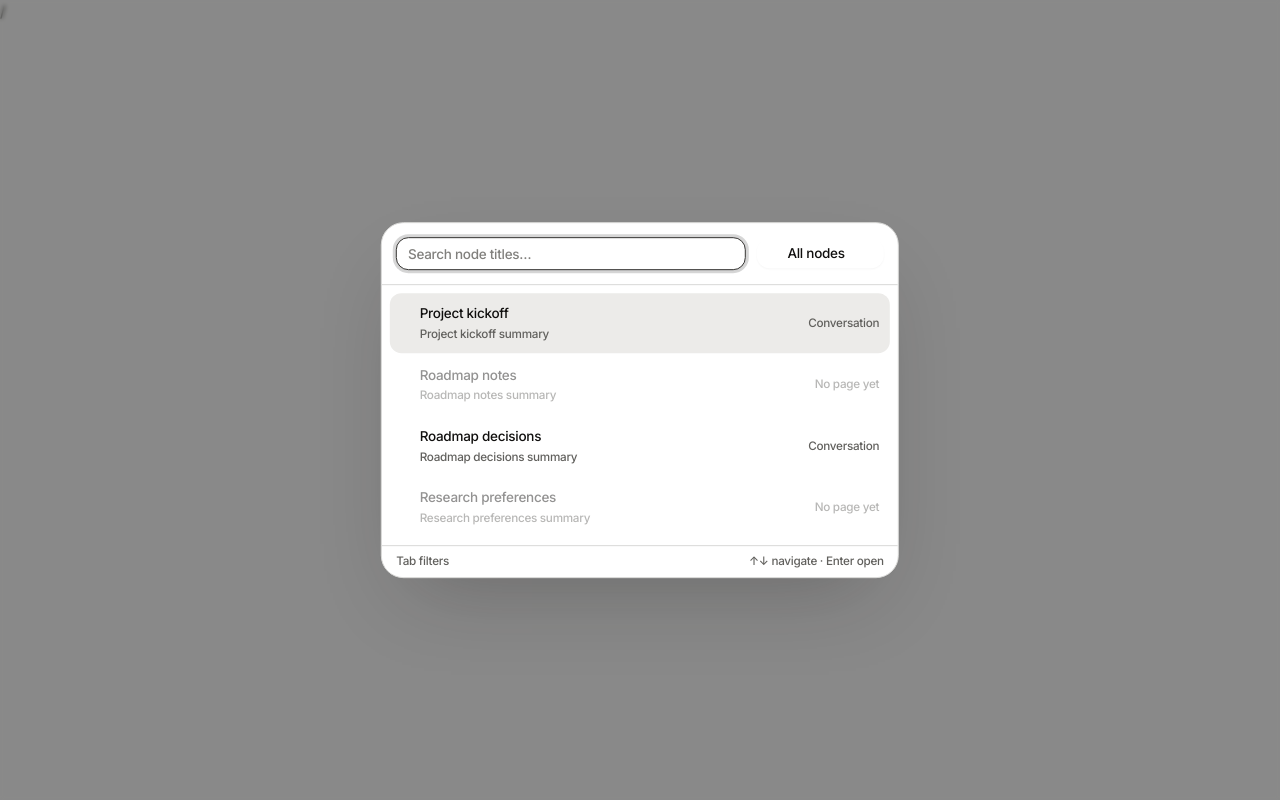
Test case: WorkspaceSearchDialog › updates title results after the first typed character
expect the option "Project kickoff Project kickoff summary Conversation" is shown: met, box [389, 292, 891, 354]
In the search field named "Search workspace": (571, 254) [396, 238, 746, 270], type "d"
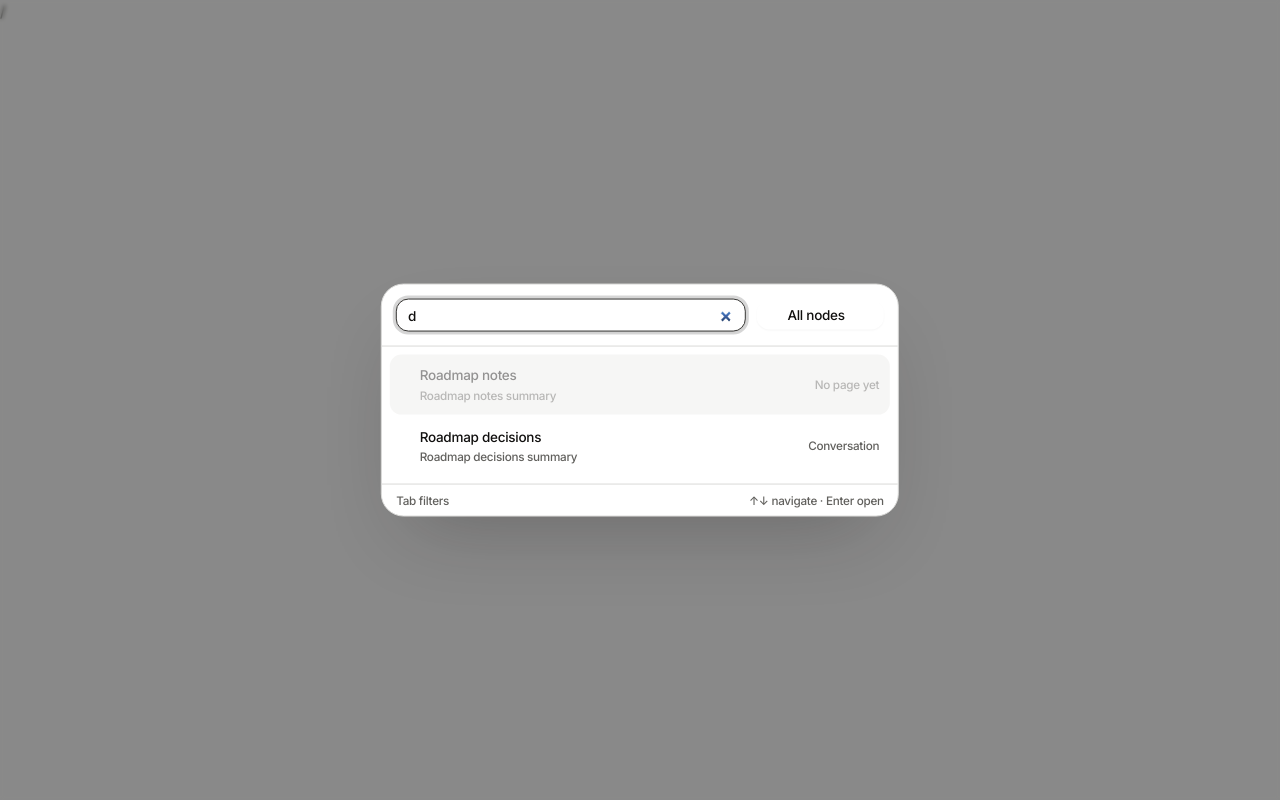
expect the option "Roadmap notes Roadmap notes summary No page yet" is shown: met, box [389, 354, 891, 415]
expect the option "Project kickoff" is gone: met
